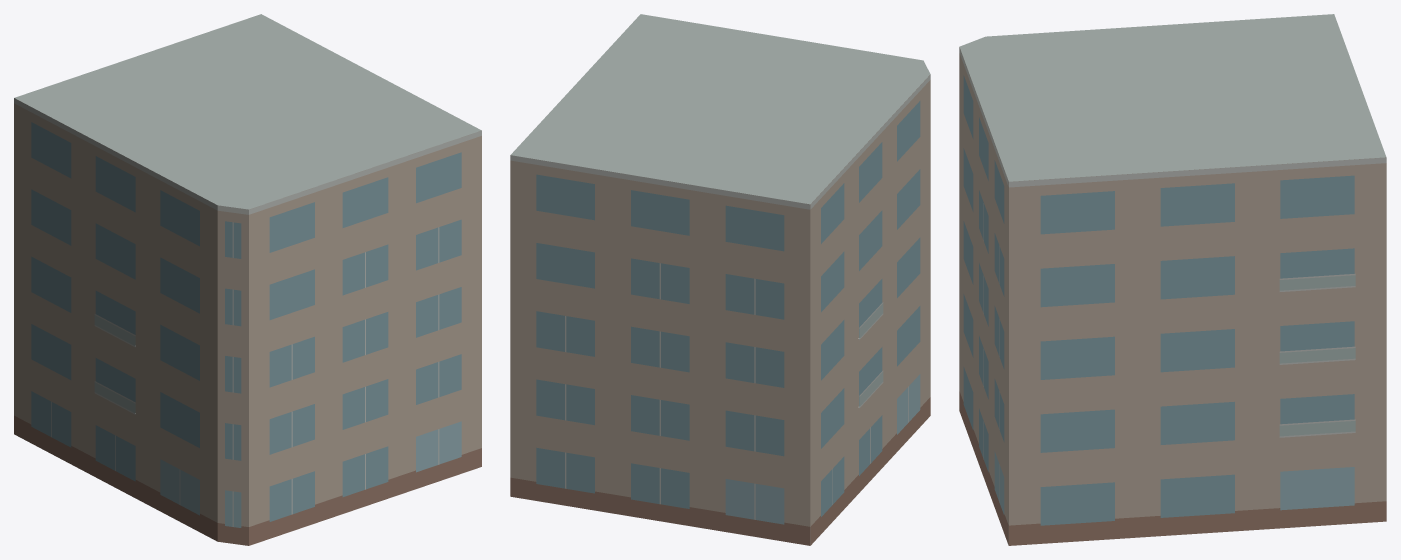
The model's file is survey-upis-32711475.glb.
3 renders of one model, left to right at view 1: azimuth 30°, elevation 25°; view 2: azimuth 150°, elevation 25°; view 3: azimuth 270°, elevation 25°, orthographic. The views are drawn at different scales.
Parts seen in each view (by area): view 1: survey-upis-32711475.tmp; view 2: survey-upis-32711475.tmp; view 3: survey-upis-32711475.tmp.
Boxes of the visible parts, box(x1,y1,x2,y2) form: survey-upis-32711475.tmp: box(14, 14, 481, 545); survey-upis-32711475.tmp: box(510, 14, 930, 545); survey-upis-32711475.tmp: box(959, 14, 1386, 545).
Size of the model in its own units: 15.22 by 15.4 by 16.38.
